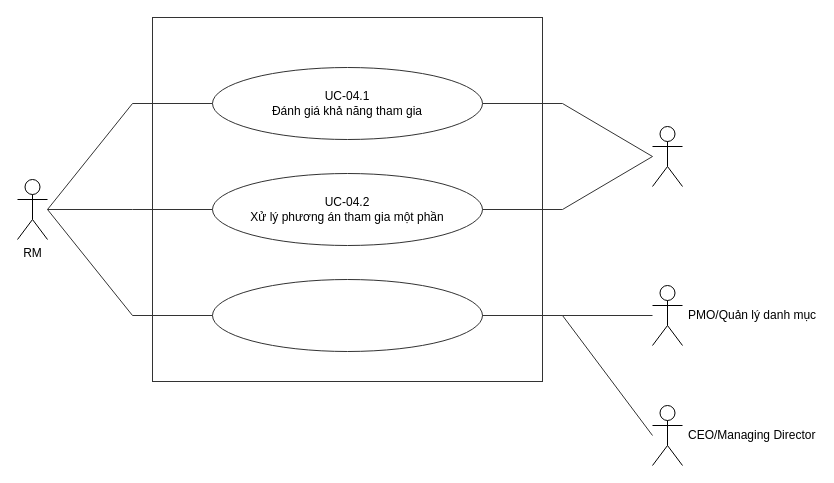
Image size: 834x483. Some labels were removed from this diagram. The shapes that lost their labels are listed below. From the top down, each one's box as (x1, y1, x2, y2) in pixels, then its label:
(652, 126, 682, 186): PM
(152, 16, 542, 382): UC-04 Đánh giá khả năng tham gia (V5)
(212, 278, 482, 352): UC-04.3 Xử lý trường hợp vượt tải ngoại lệ
